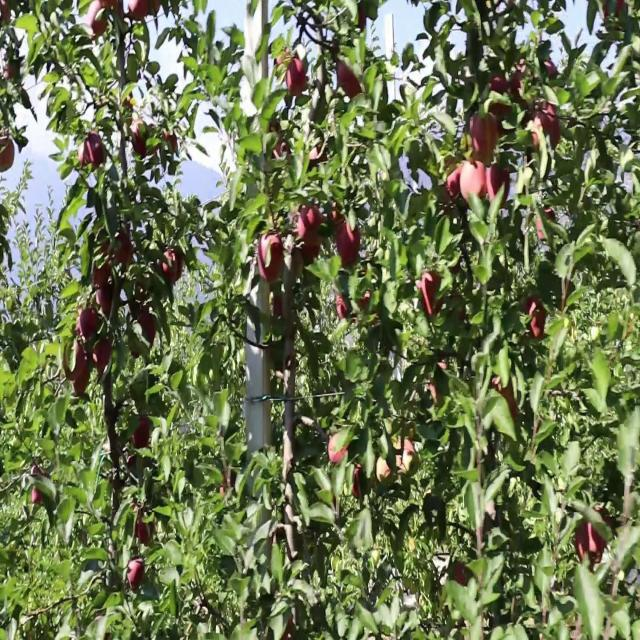apple: (576, 511, 610, 564), (380, 440, 417, 484), (472, 113, 500, 164), (260, 234, 286, 286), (532, 106, 562, 151), (492, 376, 520, 423), (336, 220, 361, 268), (376, 447, 408, 484), (64, 341, 91, 384), (420, 270, 444, 318), (272, 291, 297, 334), (488, 92, 512, 135), (460, 163, 485, 204), (160, 248, 185, 288), (524, 298, 547, 341), (336, 63, 362, 100), (488, 78, 511, 119), (88, 0, 112, 39), (288, 56, 309, 100), (132, 120, 155, 160), (488, 163, 512, 201), (300, 206, 322, 247), (84, 135, 108, 171), (444, 163, 463, 204), (92, 341, 113, 377), (488, 71, 510, 105), (328, 433, 349, 468), (80, 305, 100, 341), (116, 234, 136, 270), (136, 312, 156, 348), (512, 63, 529, 105), (272, 291, 295, 320), (132, 419, 152, 452), (96, 284, 113, 320), (32, 469, 48, 507), (288, 248, 305, 283), (0, 135, 16, 172), (536, 213, 555, 242), (136, 519, 155, 548), (308, 142, 328, 169), (128, 561, 146, 590), (92, 263, 112, 288), (136, 270, 153, 299), (128, 0, 149, 23), (400, 440, 417, 468), (304, 241, 322, 267), (336, 291, 351, 322), (220, 469, 236, 498), (444, 177, 460, 206), (456, 561, 471, 590), (164, 127, 179, 155), (272, 142, 291, 164), (120, 92, 139, 114), (72, 376, 90, 398), (356, 291, 373, 313), (328, 206, 344, 229), (428, 383, 444, 405), (352, 469, 363, 500), (360, 291, 372, 311), (100, 241, 112, 261), (544, 63, 558, 80), (360, 7, 368, 30)
